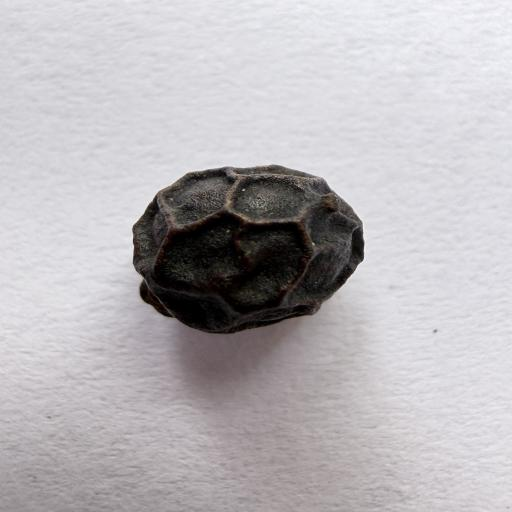Black_pepper: (115, 136, 385, 361)
